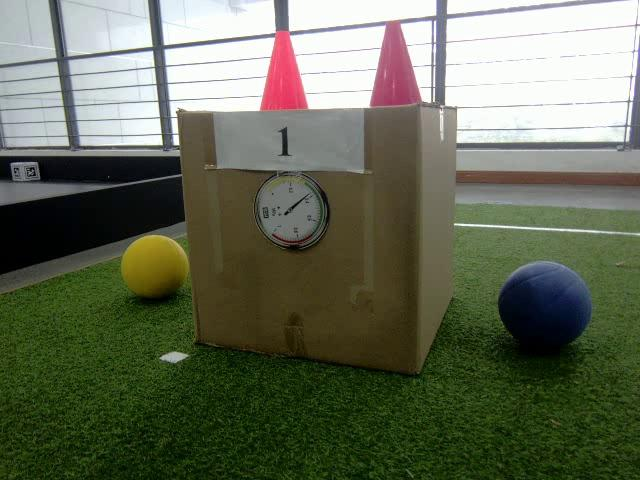1: (276, 126, 292, 156)
Dashboard: (255, 173, 328, 249)
blue_ball: (497, 262, 592, 354)
orange_barrel: (259, 30, 309, 111)
red_barrel: (368, 19, 422, 107)
ssi: (262, 207, 269, 218)
yellow_ball: (119, 233, 189, 300)
